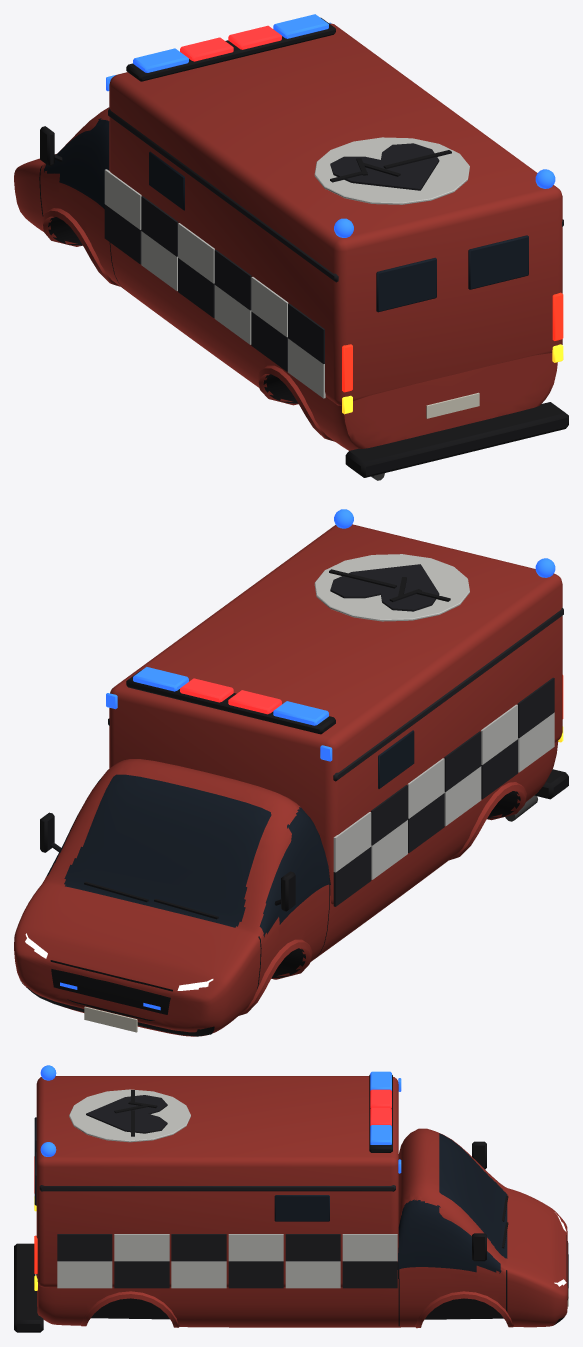
Rendered from car_lastcall.glb.
The picture shows the model from 3 angles, top to bottom: view 1: azimuth 30°, elevation 25°; view 2: azimuth 150°, elevation 25°; view 3: azimuth 270°, elevation 25°; orthographic projection. The views are drawn at different scales.
Visible parts, largest first — view 1: parts, body, lips; view 2: parts, body, strip0, lips, strip3; view 3: parts, body, lips.
Boxes of the visible parts, x1,y1,x2,y2 form: parts: [40, 14, 568, 480]; body: [14, 107, 557, 450]; lips: [41, 208, 334, 441]; parts: [40, 509, 568, 1032]; body: [14, 740, 558, 1036]; strip0: [50, 960, 172, 1014]; lips: [239, 782, 526, 1015]; strip3: [20, 980, 214, 1036]; parts: [14, 1065, 568, 1332]; body: [37, 1128, 567, 1327]; lips: [81, 1291, 513, 1328].
Bounding box in the file's own units: 2.27 × 2.27 × 5.64.
